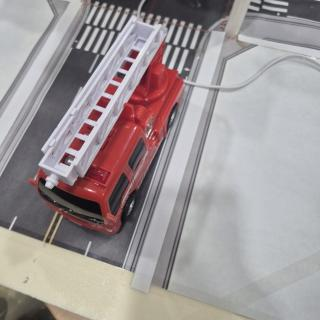Fire_truck: (30, 17, 183, 234)
